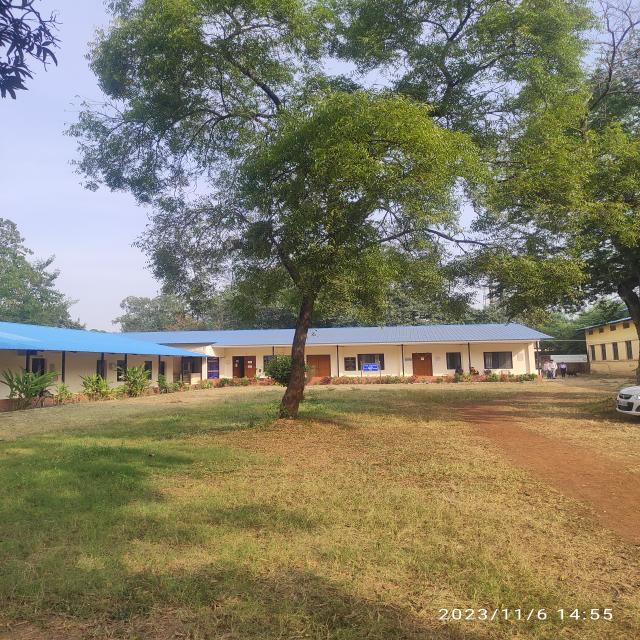Neem Tree: (114, 1, 582, 435)
